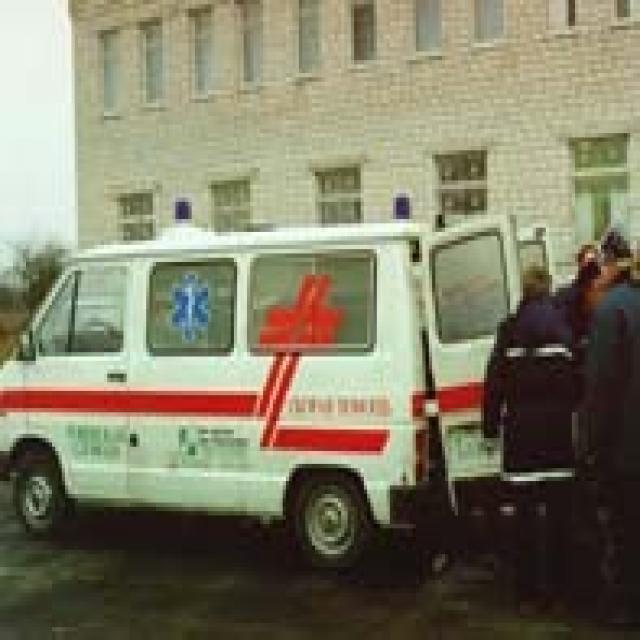emergency-vehicle: (0, 219, 422, 549)
